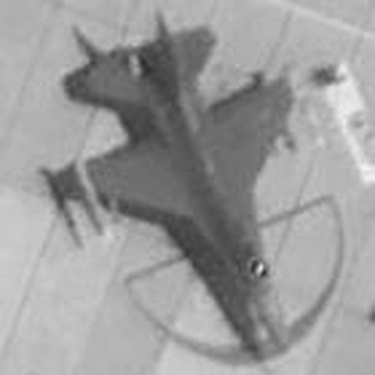airplane: (28, 10, 315, 362)
